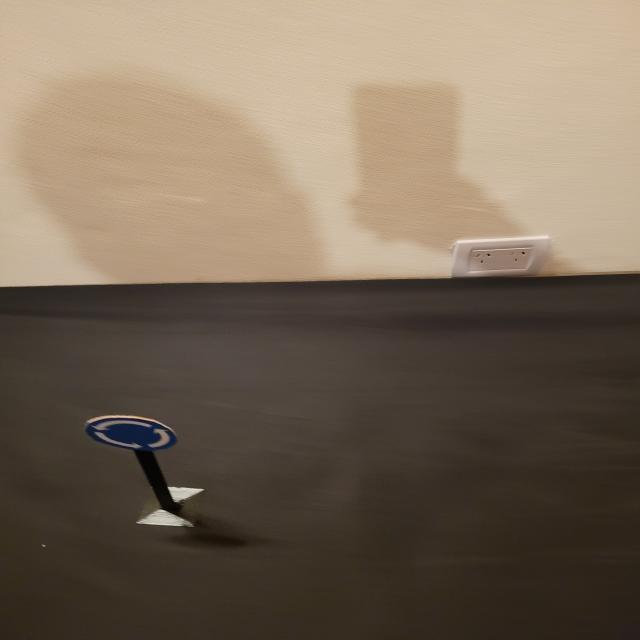round_about: (82, 415, 178, 452)
